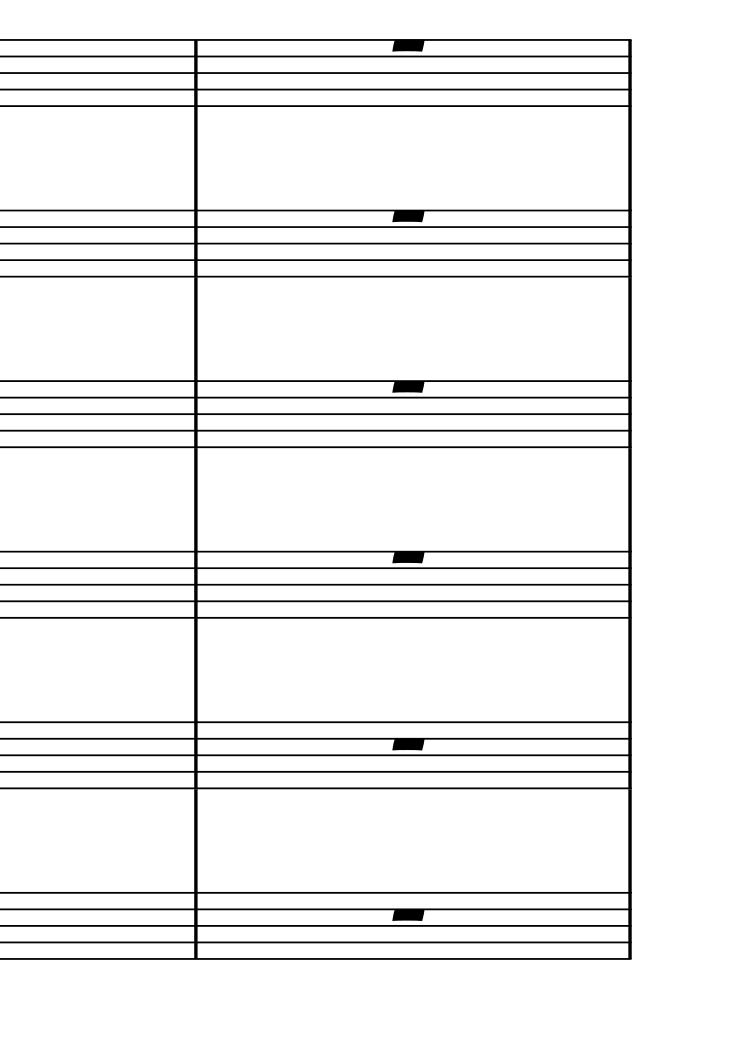Rests1: (387, 203, 432, 229), (387, 544, 428, 571), (388, 731, 429, 755), (388, 34, 430, 56), (388, 901, 427, 924), (389, 375, 428, 397)
Single_barline: (619, 210, 638, 279), (186, 721, 205, 789), (186, 551, 205, 619), (186, 380, 205, 448), (186, 210, 205, 278), (619, 892, 638, 960), (619, 551, 638, 619), (619, 381, 638, 448), (620, 39, 638, 108), (619, 722, 638, 787), (187, 39, 205, 106), (187, 892, 204, 959)
